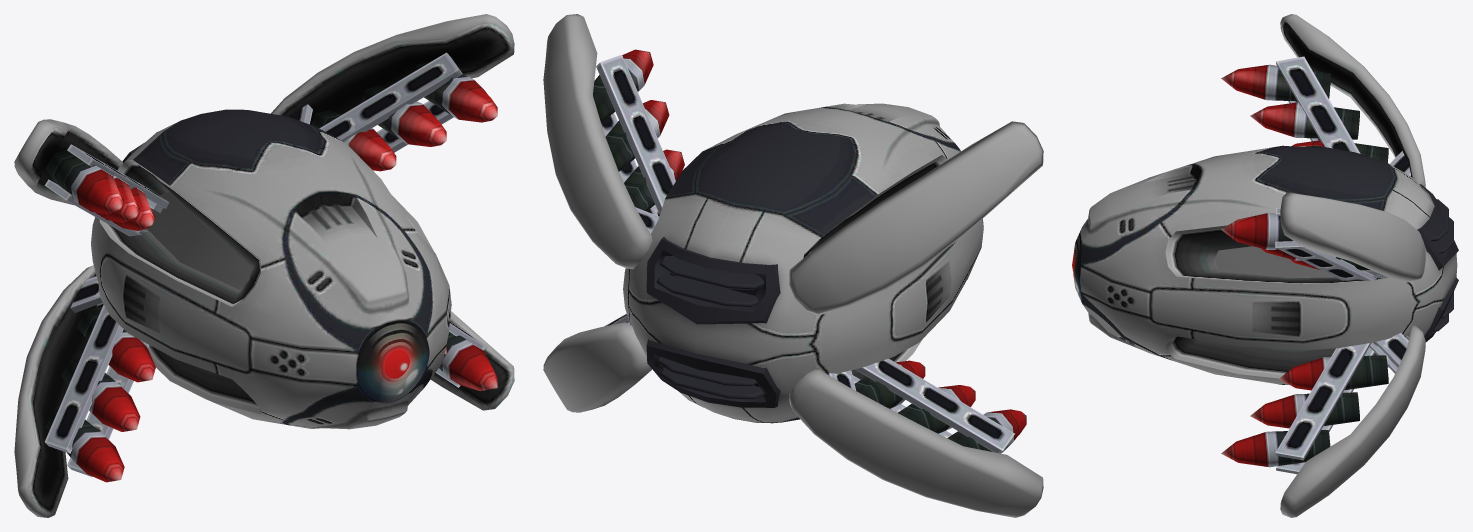
File: Drone.obj
The picture shows the model from 3 angles, left to right: view 1: azimuth 30°, elevation 25°; view 2: azimuth 150°, elevation 25°; view 3: azimuth 270°, elevation 25°; orthographic projection. The views are drawn at different scales.
Visible parts, largest first — view 1: Model001_5_drone-LOD0-0_0.1_16_16; view 2: Model001_5_drone-LOD0-0_0.1_16_16; view 3: Model001_5_drone-LOD0-0_0.1_16_16.
Part boxes in pixels (<box>): Model001_5_drone-LOD0-0_0.1_16_16: <box>14,14,514,517</box>; Model001_5_drone-LOD0-0_0.1_16_16: <box>543,14,1043,517</box>; Model001_5_drone-LOD0-0_0.1_16_16: <box>1072,14,1458,517</box>.
Size of the model in its own units: 1.03 by 0.7816 by 0.8489.
